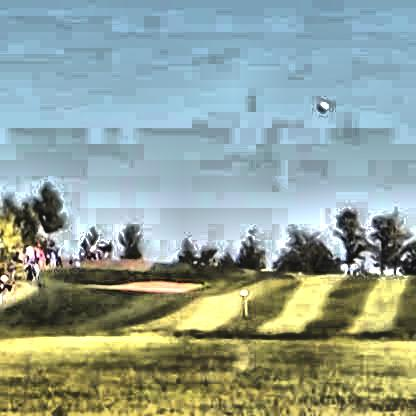golfball: (315, 99, 326, 110)
